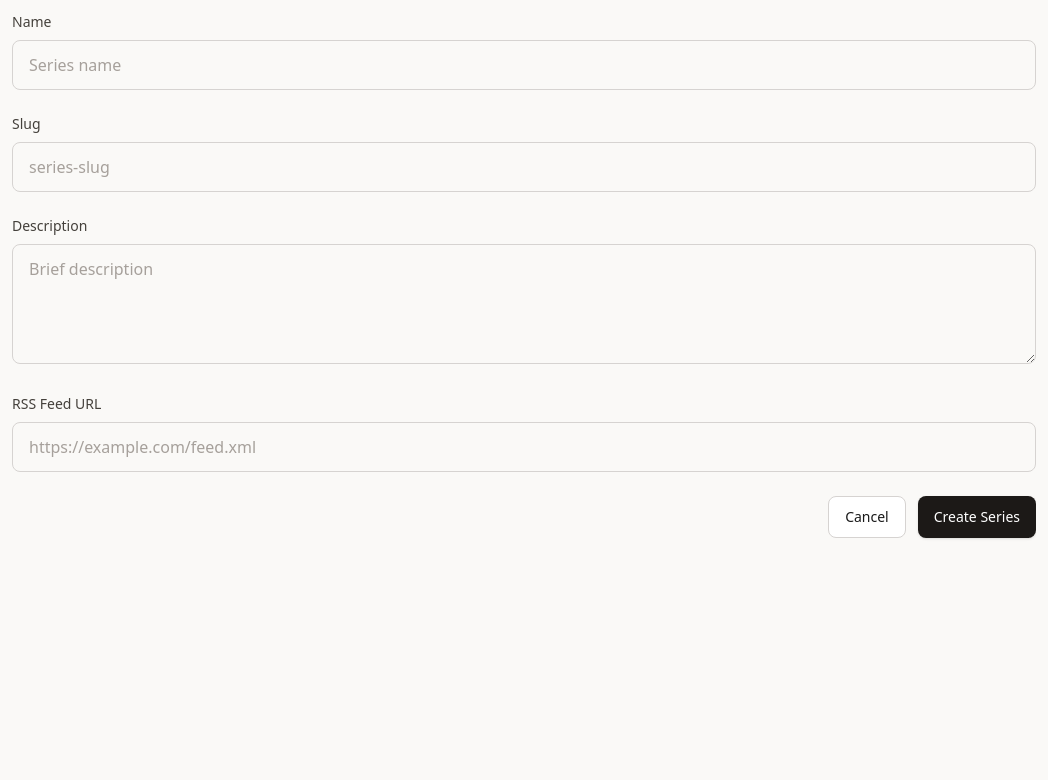
Test: SeriesForm › shows error message on failure
Type "Test" into the field with placeholder "Series name" at (524, 65), box [12,40,1036,90]
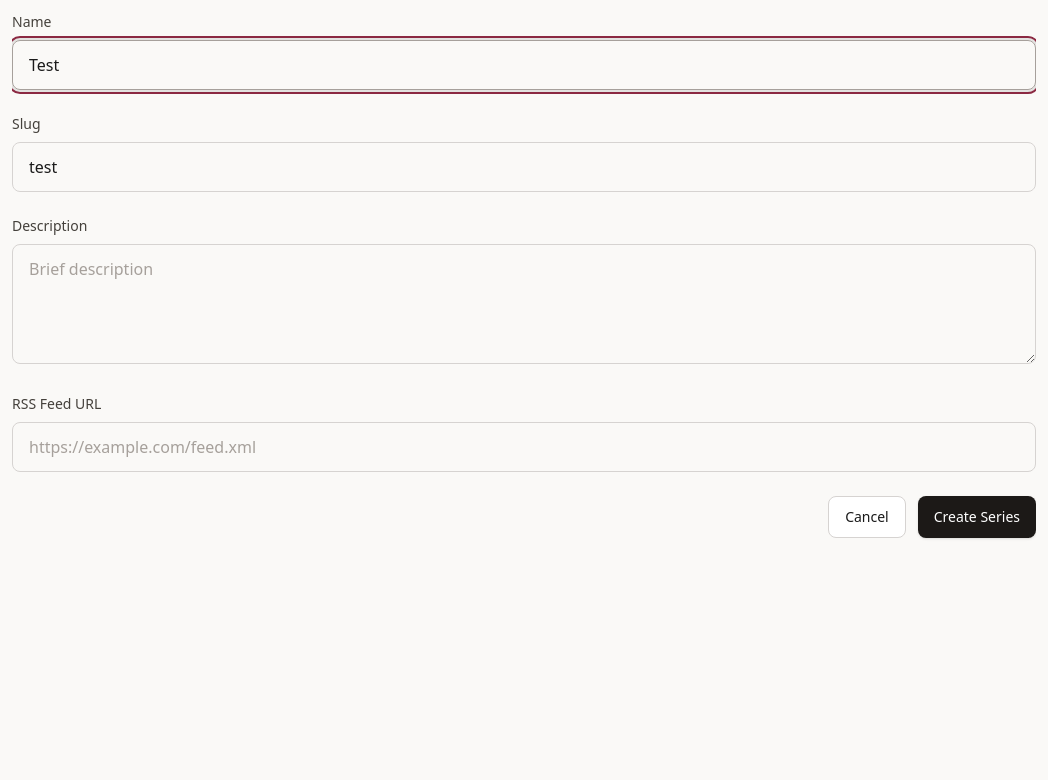
Click the button "Create Series" at (977, 517), box [918,496,1036,538]
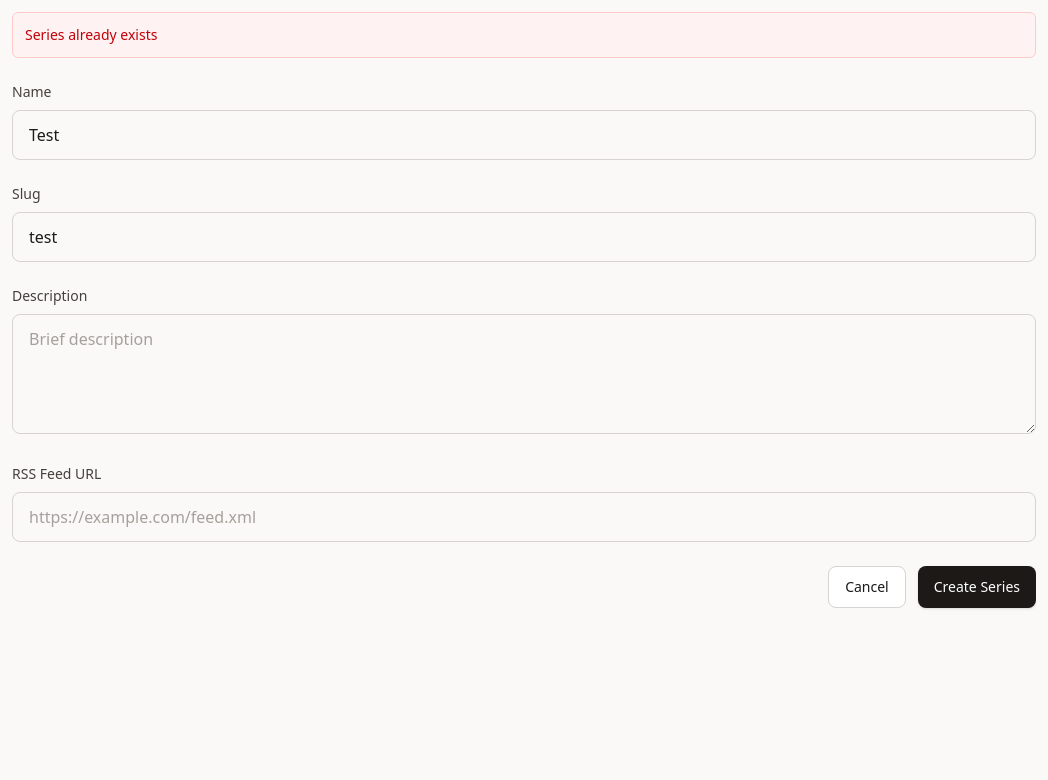
Expected: the text "Series already exists" is shown, [12,12,1036,58]
